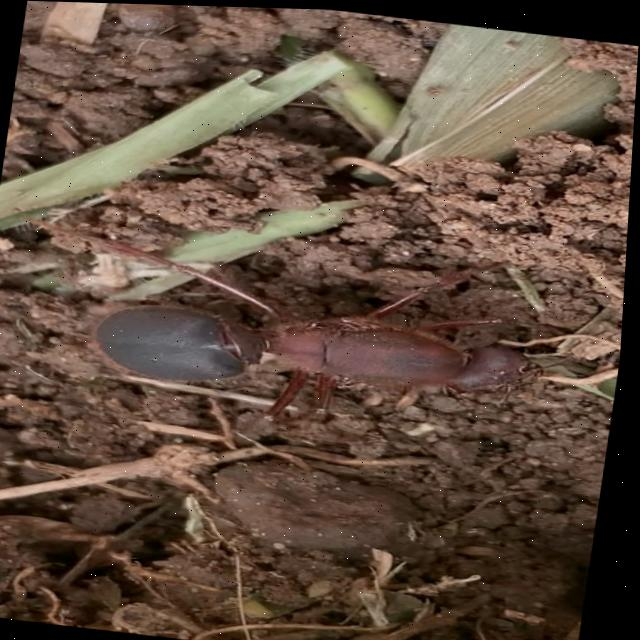Alive-Female-Dealate: (4, 202, 565, 448)
